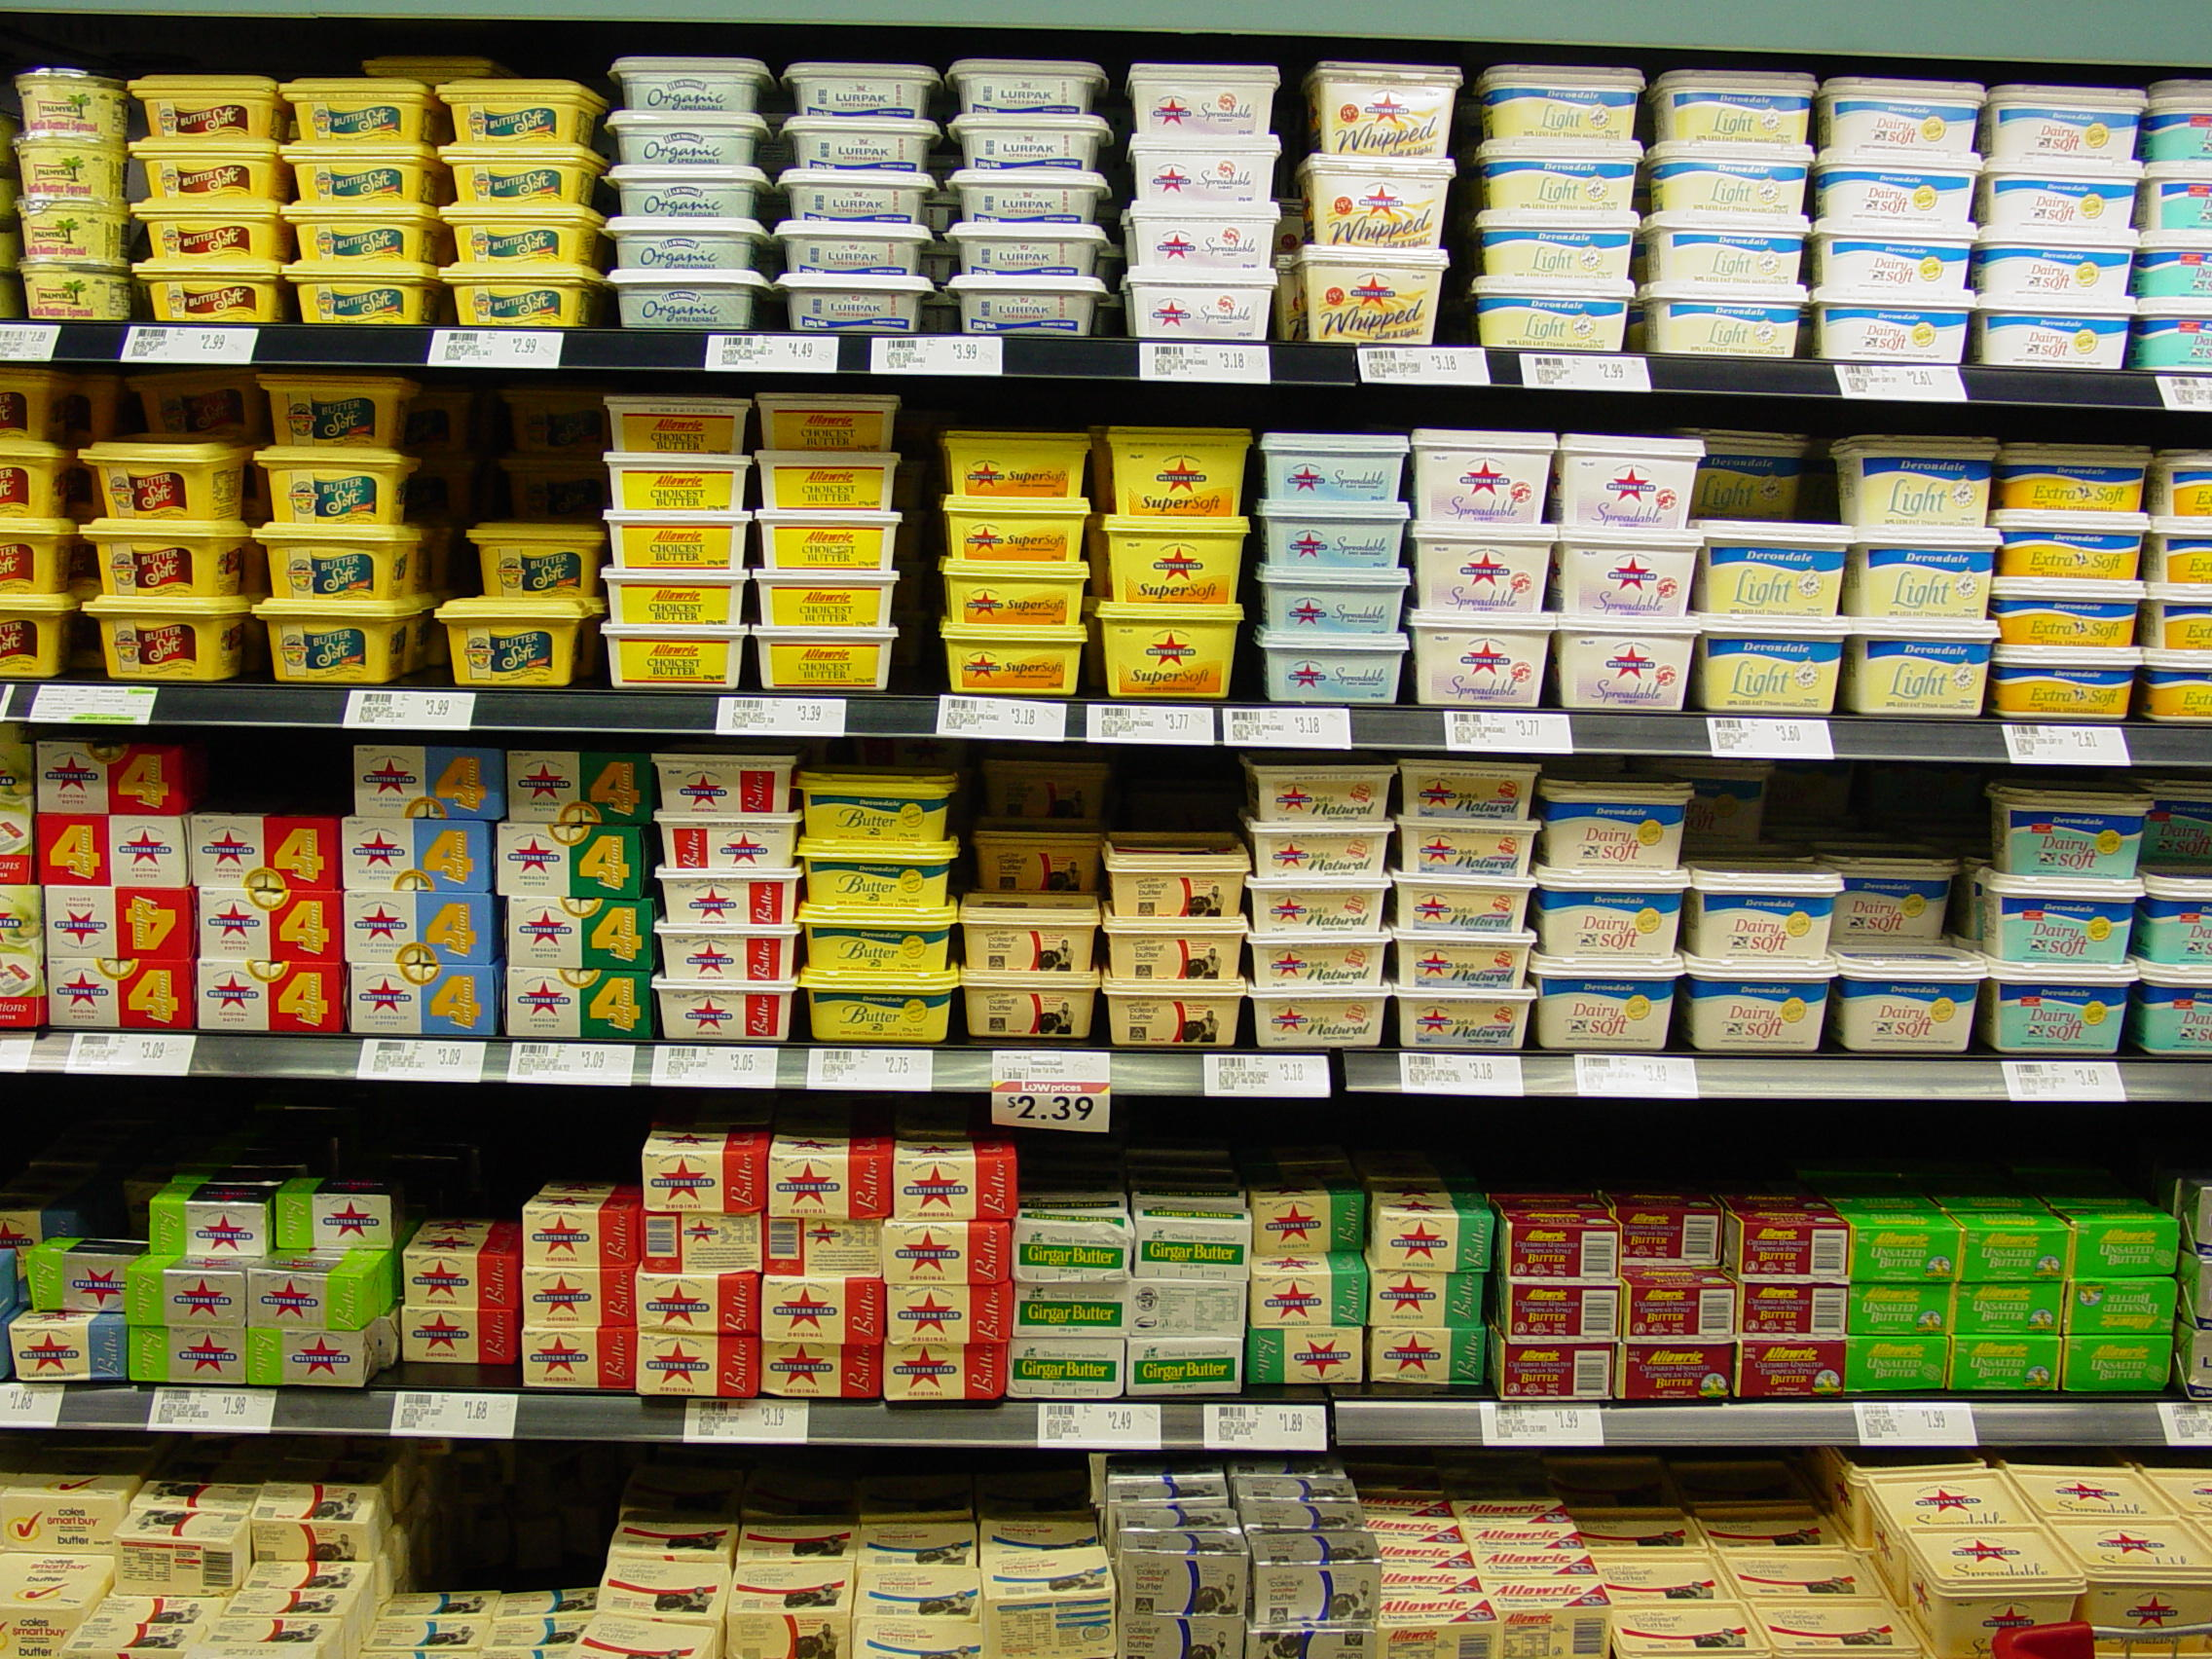Misplacement: (1689, 765, 1987, 1044), (430, 385, 596, 685), (1689, 410, 1844, 704), (960, 758, 1116, 1040)
